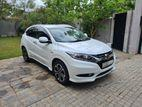car: (22, 23, 115, 85)
